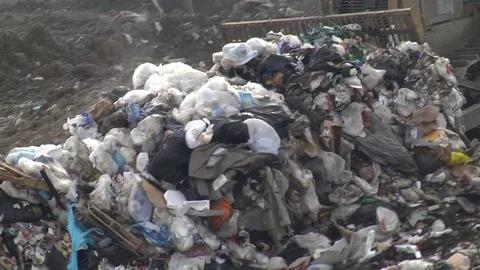Trash: (2, 8, 480, 270)
